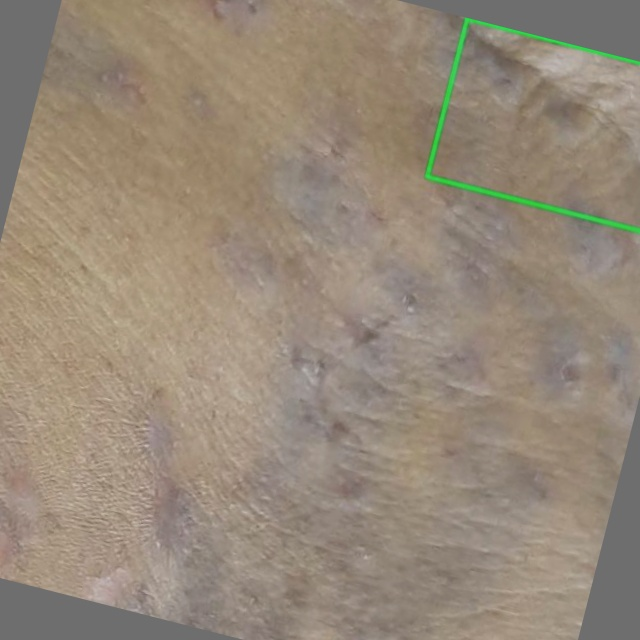Contact Dermatitis: (426, 18, 639, 230)
